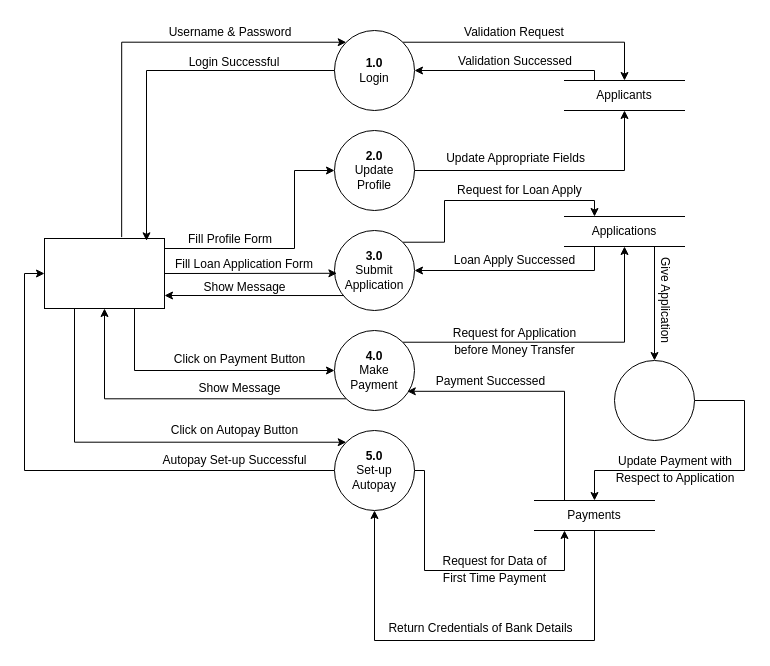
The diagram is 770 pixels wide and 666 high, and some of its shapes have lost their labels. Here are the shapes that lost their labels. From the top down, the centre of each, then its label:
At (104,273): "Applicant".
At (654,400): "6.0 Get Application Details".
